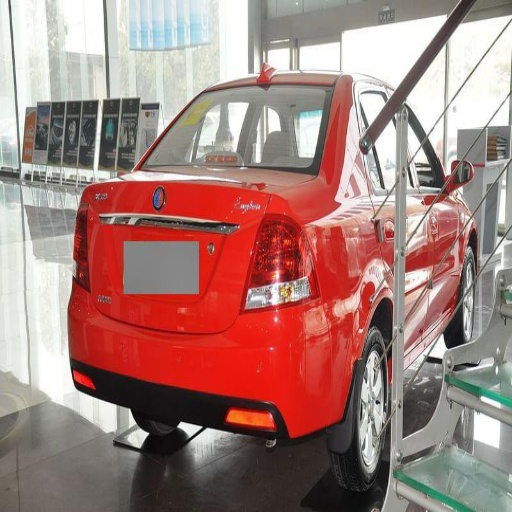back_bumper: (74, 285, 364, 481)
back_left_light: (73, 197, 90, 286)
back_right_door: (401, 154, 427, 234)
tailgate: (121, 166, 268, 332)
trunk: (90, 179, 219, 328), (245, 172, 305, 287)
